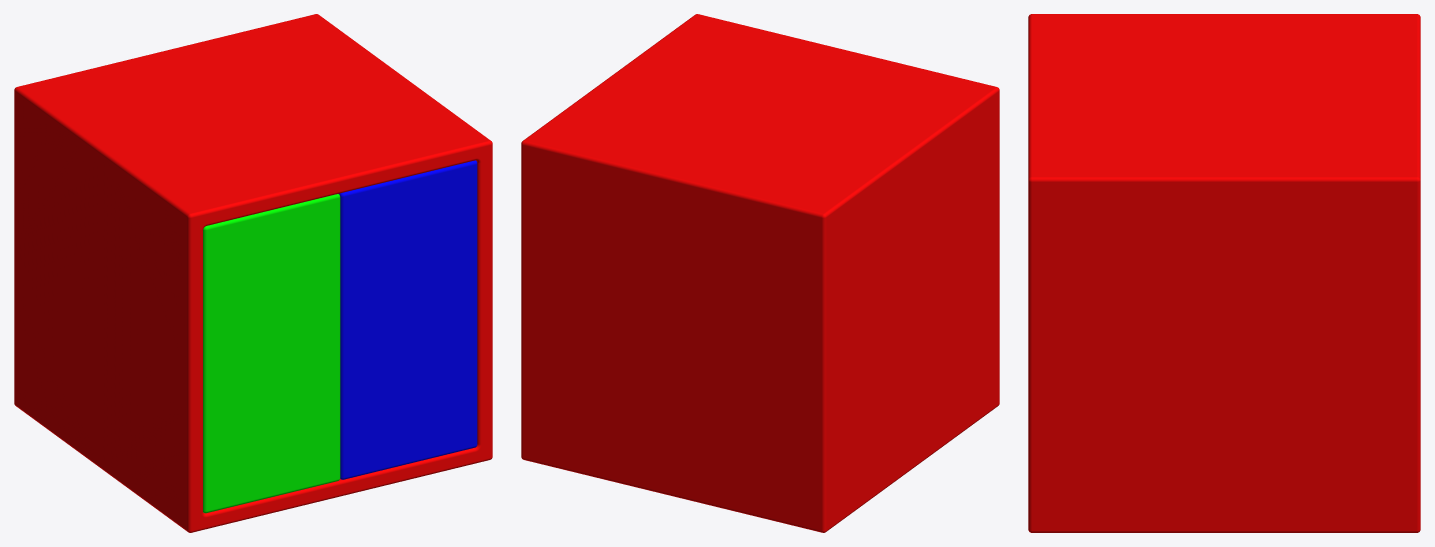
Rendered from example-1.glb.
The picture shows the model from 3 angles, left to right: view 1: azimuth 30°, elevation 25°; view 2: azimuth 150°, elevation 25°; view 3: azimuth 270°, elevation 25°; orthographic projection. The views are drawn at different scales.
Size of the model in its own units: 0.1 by 0.1 by 0.1.
